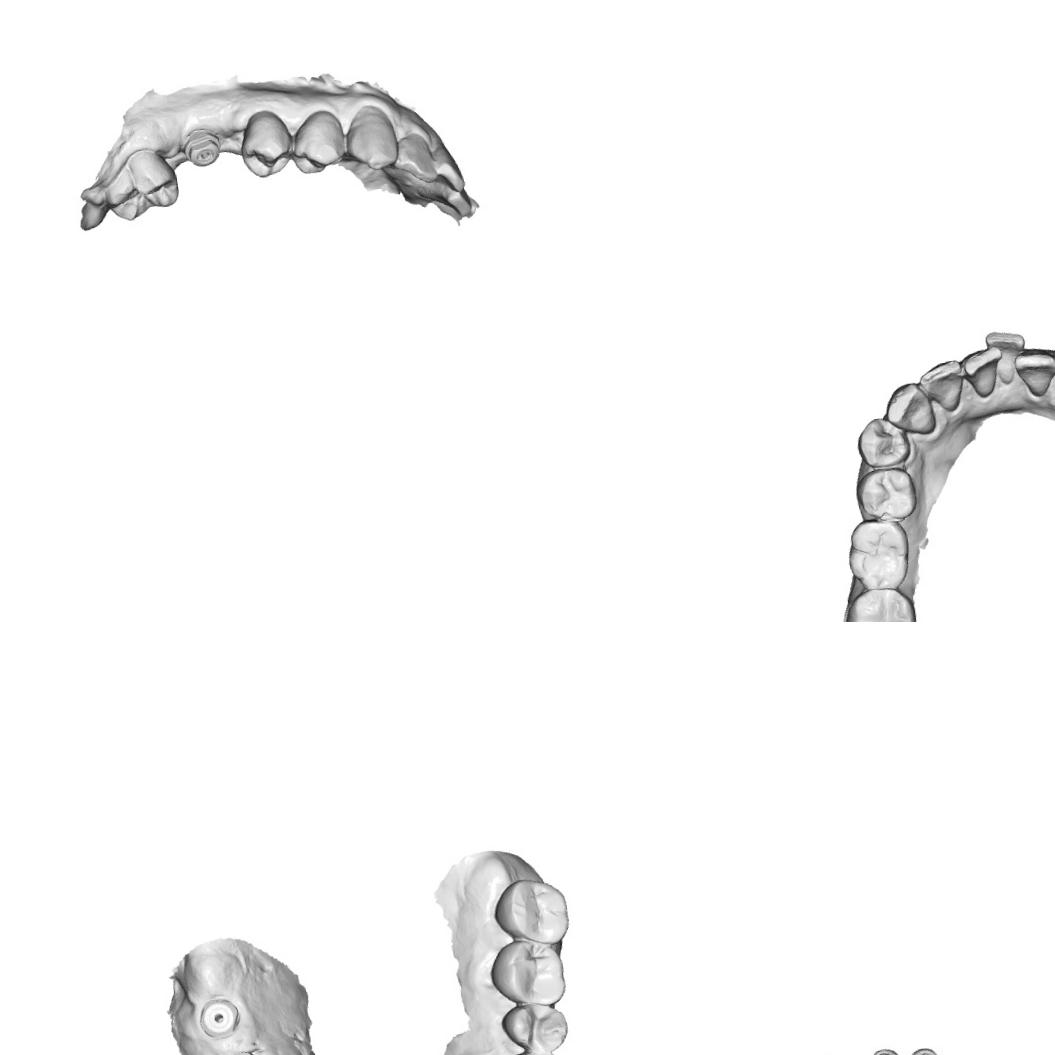canine: (340, 99, 403, 175), (880, 378, 940, 442)
implant: (196, 994, 243, 1040), (863, 1039, 903, 1055), (903, 1042, 942, 1055)
implant_minus: (178, 125, 226, 171)
incisor: (982, 324, 1033, 388), (916, 357, 969, 416), (1009, 341, 1055, 404), (390, 129, 438, 189), (960, 344, 1007, 402), (418, 179, 473, 222), (428, 140, 468, 198)
molar: (96, 143, 184, 226), (487, 873, 572, 953), (484, 934, 569, 1014), (840, 511, 917, 596), (838, 582, 925, 622)
premolar: (235, 105, 296, 182), (285, 106, 350, 178), (850, 464, 922, 526), (498, 998, 572, 1055), (852, 411, 913, 472)
